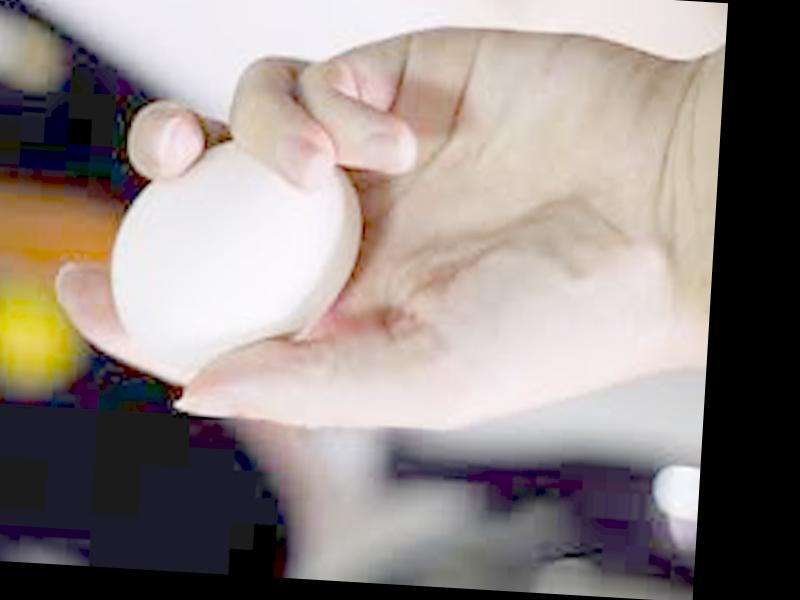Eggs: (102, 137, 363, 377)
